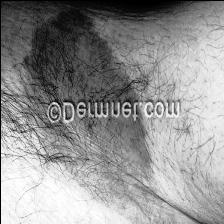Toxin: (23, 8, 176, 224)
